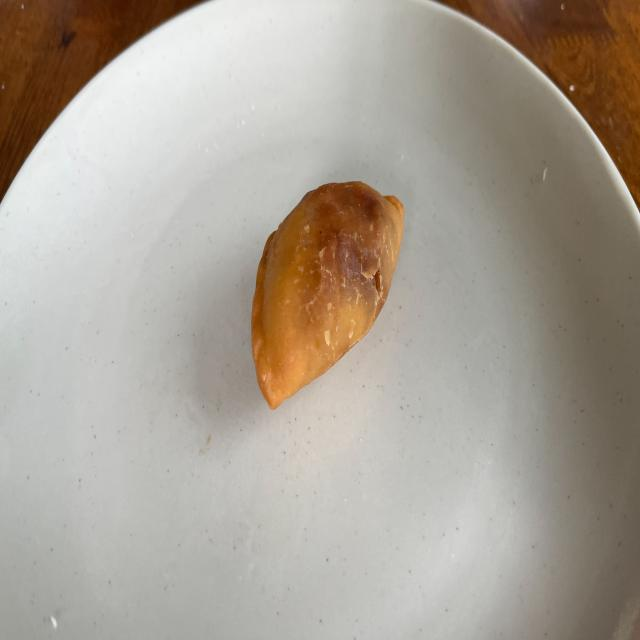karipap: (251, 182, 404, 409)
